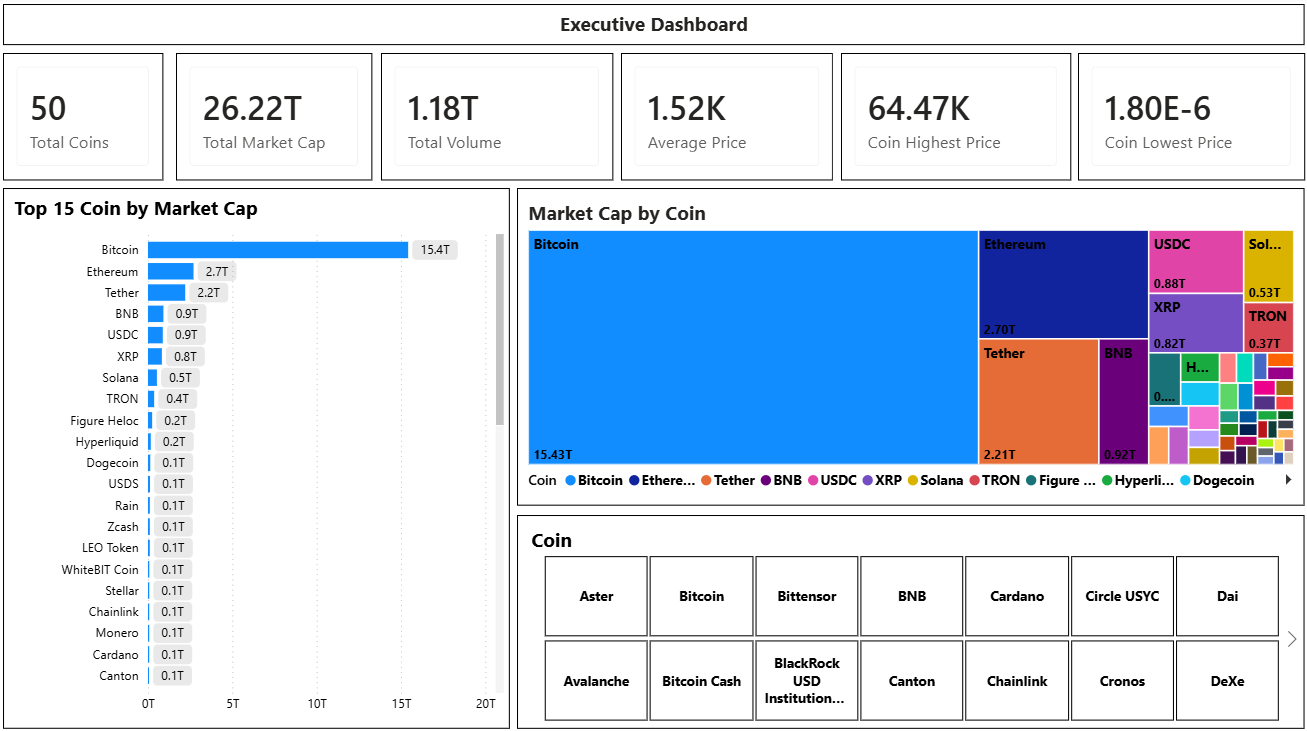

Layout of this report page (visuals, bound fields, positions):
{"tool":"powerbi","page":{"name":"Executive Summary","canvas":[1280,720],"ordinal":0},"visuals":[{"type":"textbox","box":[6.8,6.8,1266.4,39.9],"z":0},{"type":"cardVisual","fields":{"Data":["crypto dim_coin.Total Coins"]},"box":[6.8,54.5,155.6,123.5],"z":1000},{"type":"cardVisual","fields":{"Data":["crypto etl_audit.Total Market Cap"]},"box":[175.1,54.5,190.6,123.5],"z":2000},{"type":"cardVisual","fields":{"Data":["crypto etl_audit.Total Volume"]},"box":[374.5,54.5,225.7,123.5],"z":3000},{"type":"cardVisual","fields":{"Data":["crypto etl_audit.Average Price"]},"box":[607.9,54.5,206.2,123.5],"z":4000},{"type":"cardVisual","fields":{"Data":["crypto etl_audit.Coin Highest Price"]},"box":[821.9,54.5,223.7,123.5],"z":5000},{"type":"cardVisual","fields":{"Data":["crypto etl_audit.Coin Lowest Price"]},"box":[1052.4,54.5,220.8,123.5],"z":6000},{"type":"clusteredBarChart","title":"Top 15 Coin by Market Cap","fields":{"Category":["crypto dim_coin.coin_name"],"Y":["Sum(crypto fact_market_snapshot.market_cap)"]},"box":[6.8,185.8,493.1,526.2],"z":7000},{"type":"treemap","title":"Market Cap by Coin","fields":{"Group":["crypto dim_coin.coin_name"],"Values":["Sum(crypto fact_market_snapshot.market_cap)"]},"box":[506.7,185.8,766.4,309.3],"z":8000},{"type":"slicer","fields":{"Values":["crypto dim_coin.coin_name"]},"box":[506.9,503.9,766.2,207.9],"z":9000}]}

Visuals, with their boxes in screenshot pixels (x1, y1, x2, y2), scaled from the page's 1280x720 canvas onto the 1307x731 screenshot:
textbox: box(7, 7, 1300, 47)
cardVisual - crypto dim_coin.Total Coins: box(7, 55, 166, 181)
cardVisual - crypto etl_audit.Total Market Cap: box(179, 55, 373, 181)
cardVisual - crypto etl_audit.Total Volume: box(382, 55, 613, 181)
cardVisual - crypto etl_audit.Average Price: box(621, 55, 831, 181)
cardVisual - crypto etl_audit.Coin Highest Price: box(839, 55, 1068, 181)
cardVisual - crypto etl_audit.Coin Lowest Price: box(1075, 55, 1300, 181)
"Top 15 Coin by Market Cap" clusteredBarChart: box(7, 189, 510, 723)
"Market Cap by Coin" treemap: box(517, 189, 1300, 503)
slicer - crypto dim_coin.coin_name: box(518, 512, 1300, 723)
